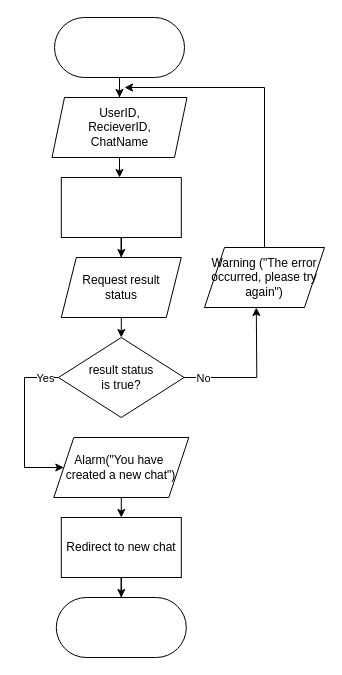
Image size: 342x675. Some labels were removed from this diagram. The shapes that lost their labels are listed below. From the top down, each one's box as (x1, y1, x2, y2) in pixels, then its label:
(54, 16, 184, 78): Start
(60, 176, 181, 238): Database record creation
(55, 596, 186, 658): End
